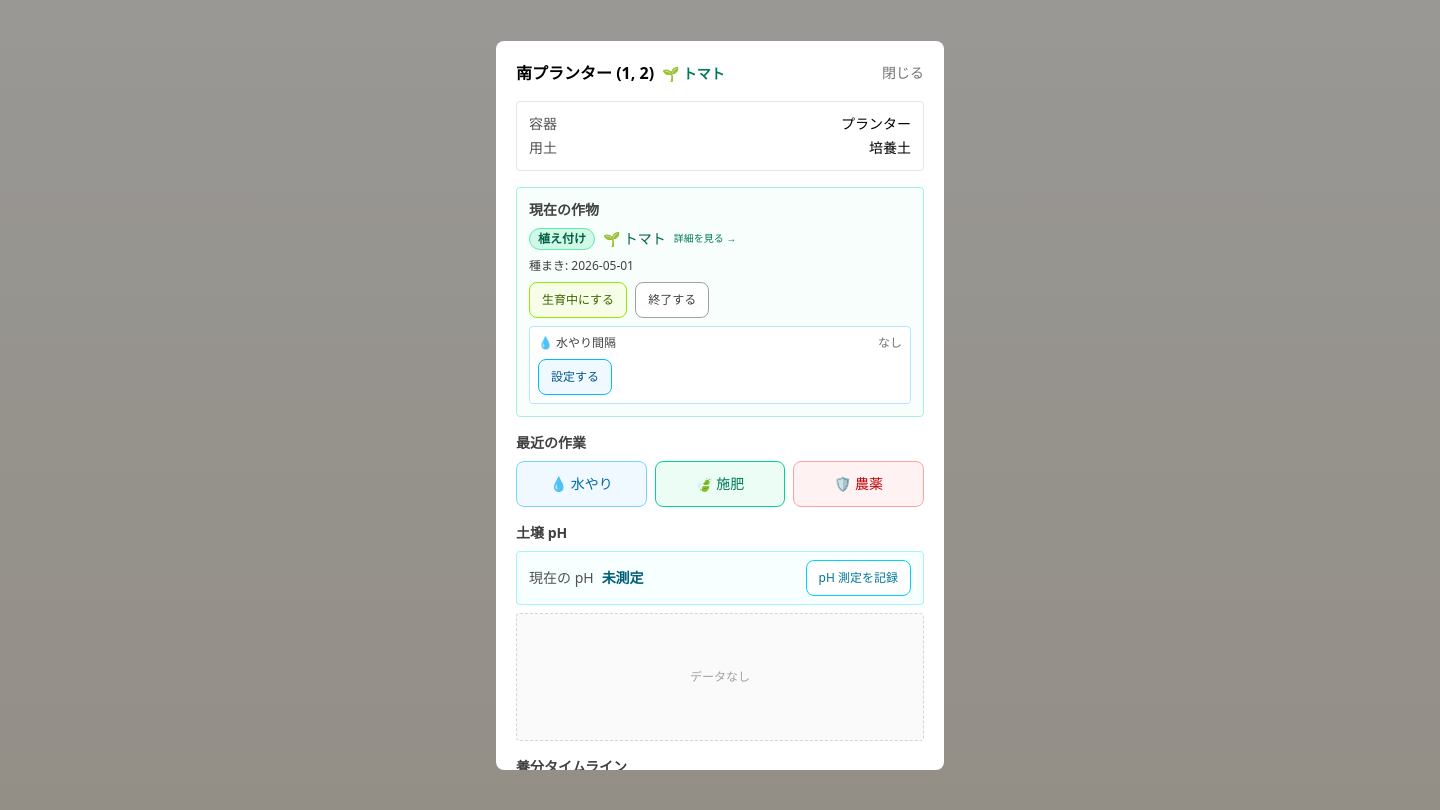
CellDetail › Issue #31: 水やり間隔が未設定なら「設定する」 → PUT で 2日ごとに設定すると表示が更新される
The width and height of the screenshot is (1440, 810).
expect the element with test id "fip-cell-detail-watering-panel" is shown: met, box [529,326,911,404]
expect the text "なし" is shown: met, box [878,334,902,350]
Click the button with test id "fip-cell-detail-watering-open-form": (575, 376) [538,358,612,394]
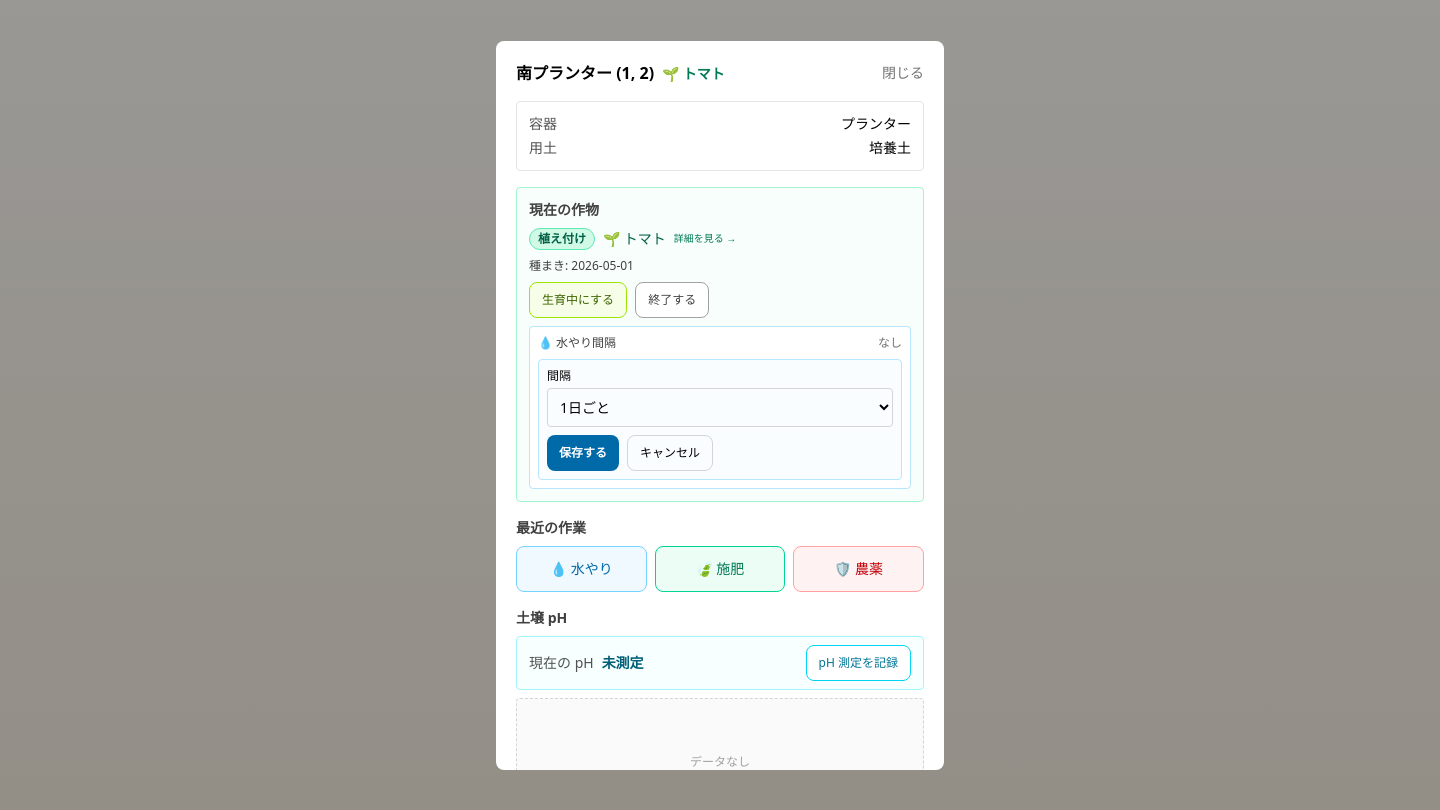
expect the element with test id "fip-cell-detail-watering-form" is shown: met, box [538,358,902,480]
Select "2日ごと" in the dropdown with test id "fip-cell-detail-watering-preset": (720, 407) [547,388,893,426]
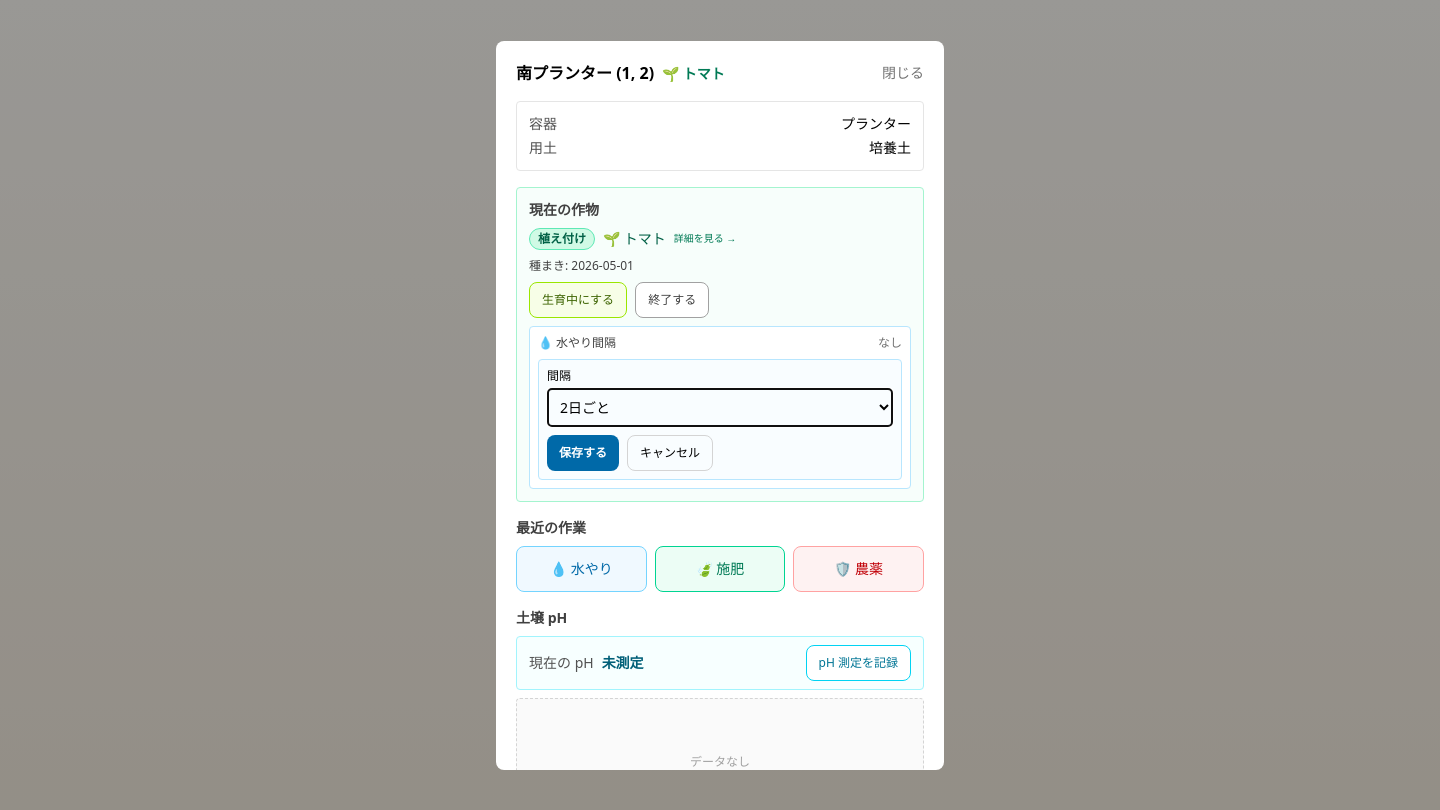
Click the button with test id "fip-cell-detail-watering-submit": (583, 452) [547,434,619,470]
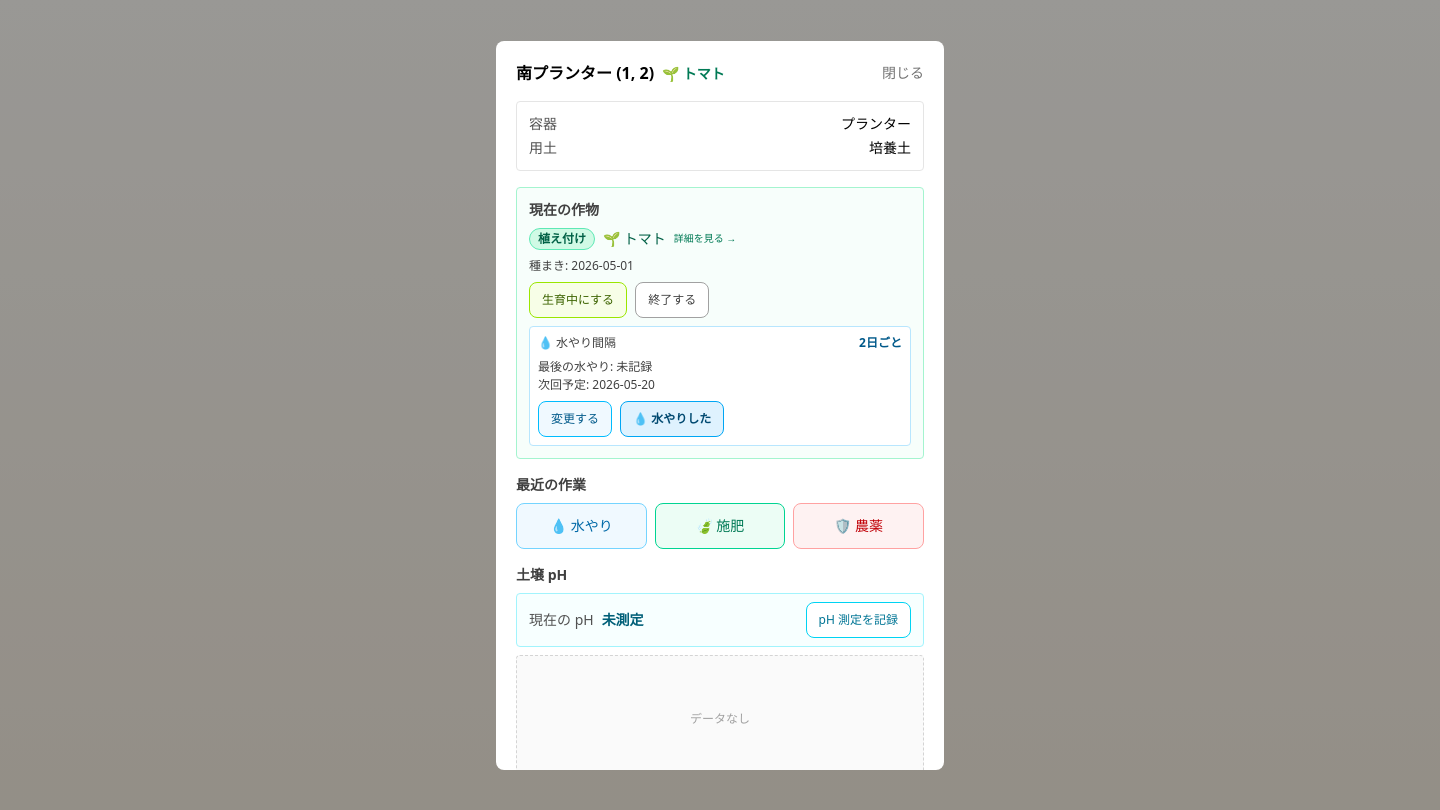
expect the text with test id "fip-cell-detail-watering-interval" reads "2日ごと": met, box [859,334,902,350]
